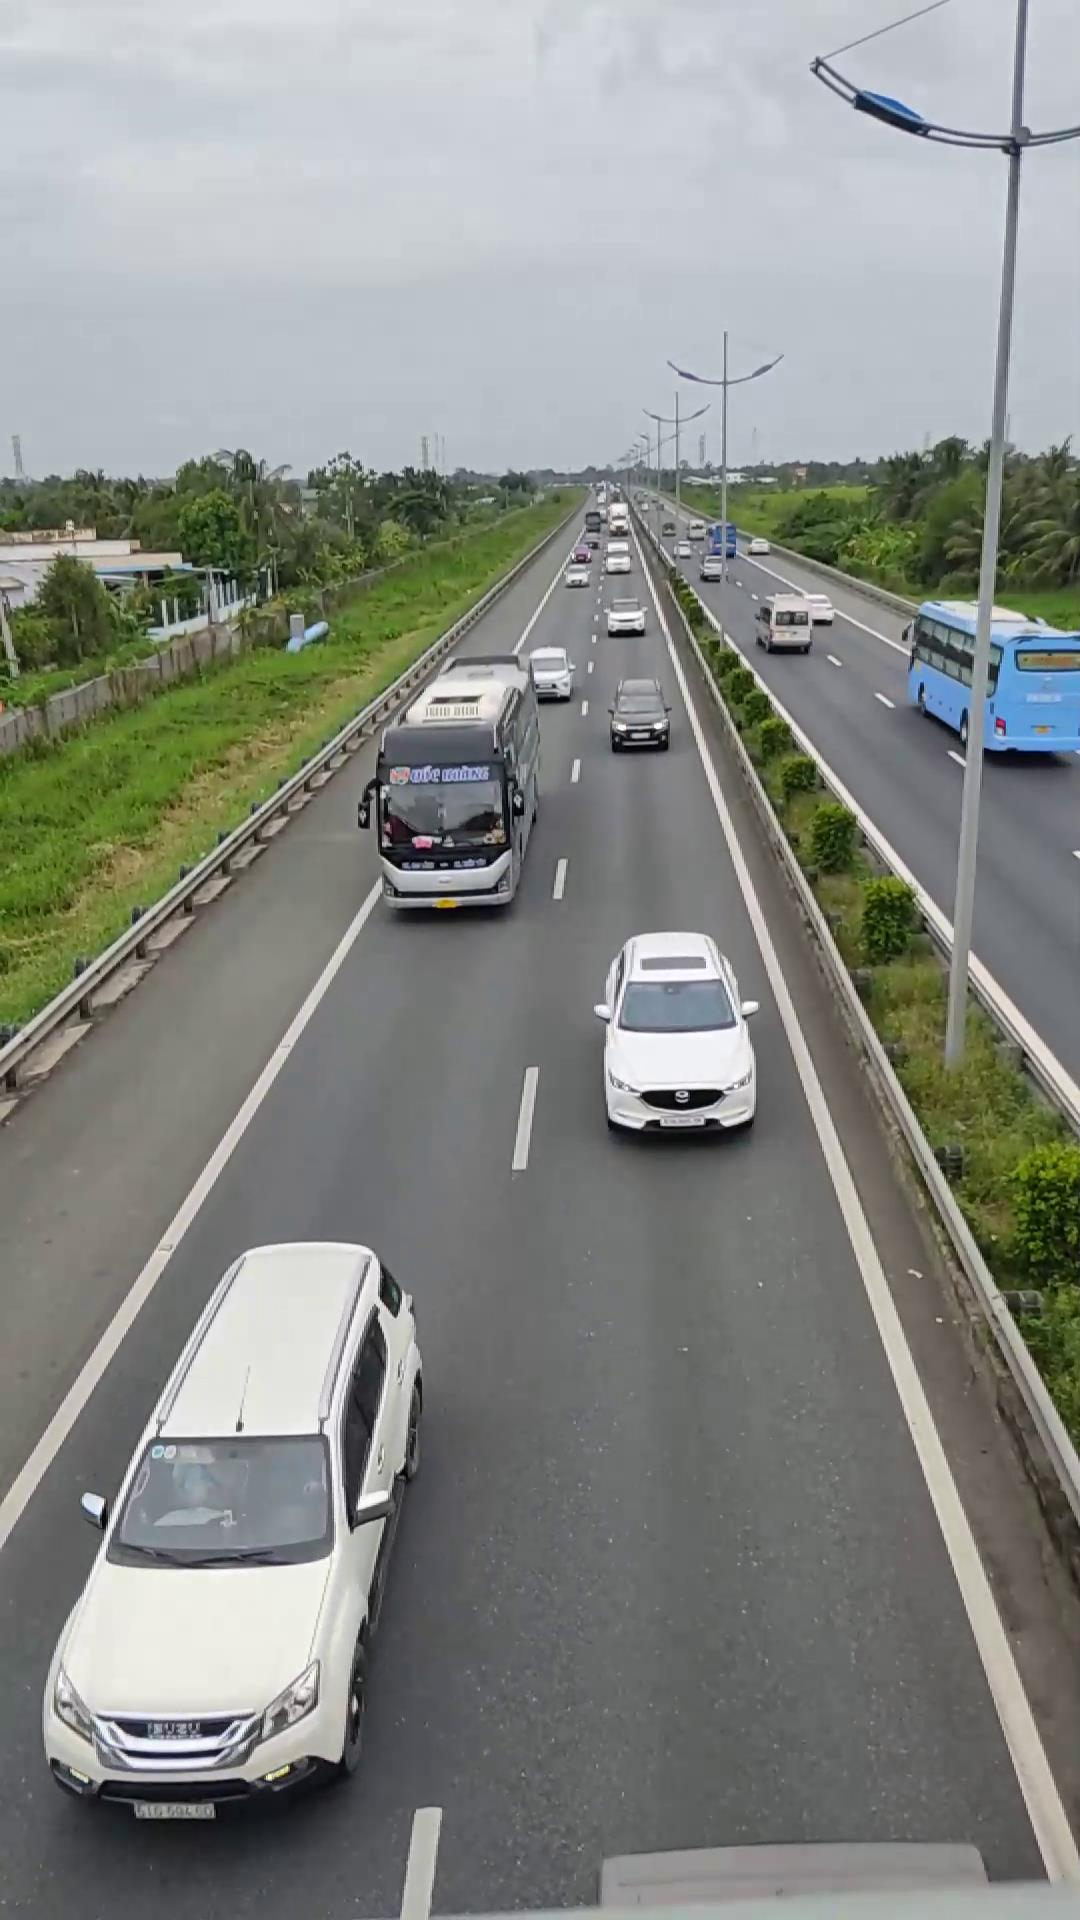bus: (359, 650, 541, 918)
car: (38, 1237, 430, 1815), (592, 929, 761, 1138), (605, 678, 672, 751)
